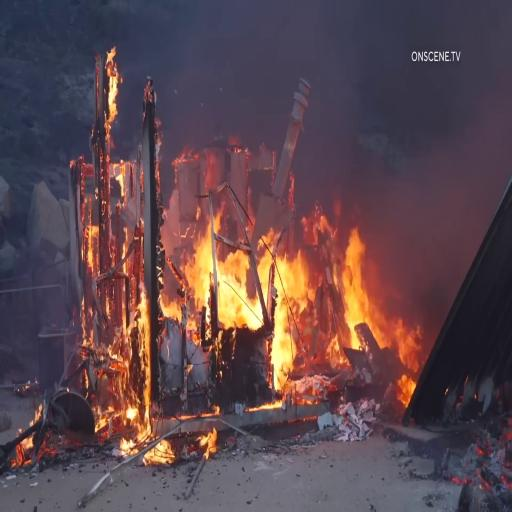fire: (220, 244, 267, 336)
smoke: (338, 116, 473, 216)
